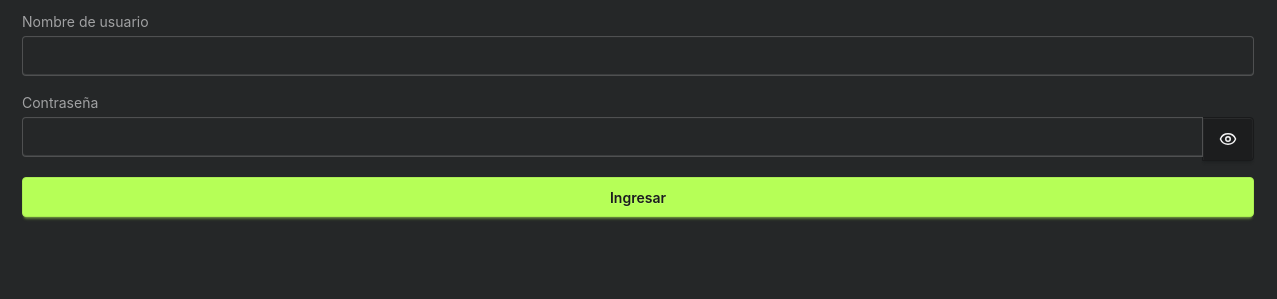
Test: LoginForm › stores successful login token and reports identity transition
In the field labelled "Nombre de usuario": (638, 56) [22,36,1254,76], type "Ada_01"
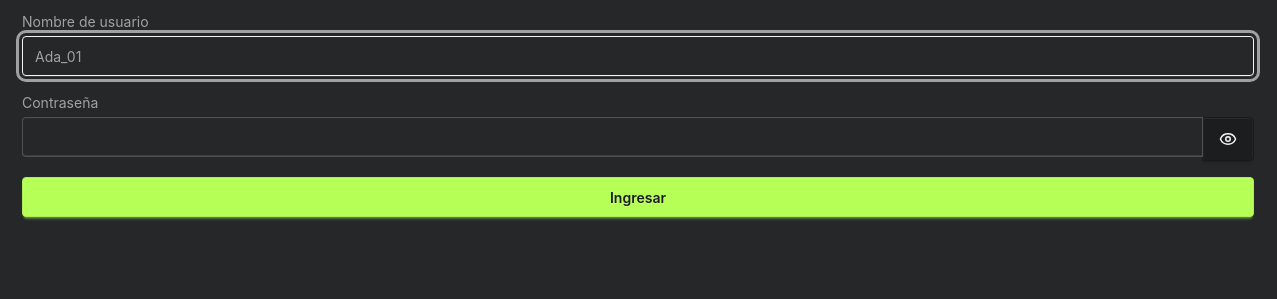
In the password field labelled "Contraseña": (612, 137) [22,117,1203,157], type "Segura!@123"
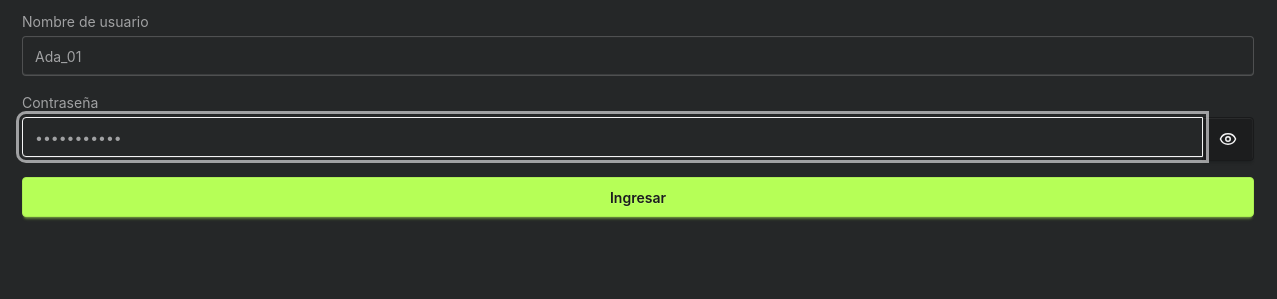
Click the button "Ingresar": click(638, 197) [22,177,1254,217]
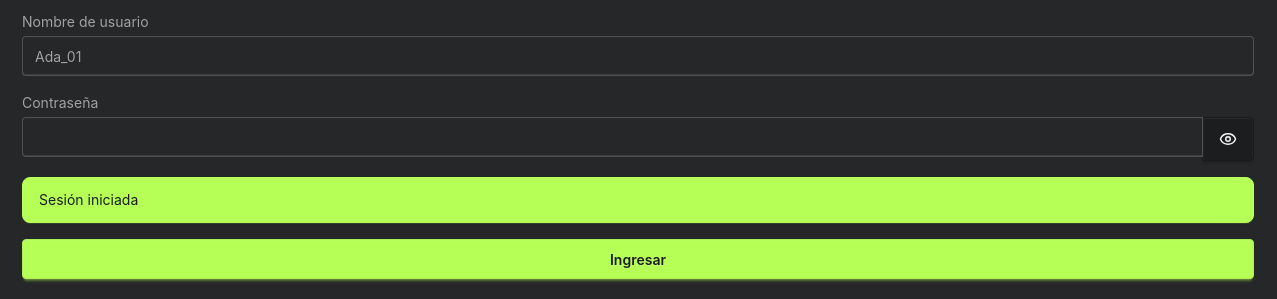
expect the text "Sesión iniciada" is shown: met, box [22,177,1254,223]
expect the password field labelled "Contraseña" is empty: met, box [22,117,1203,157]
